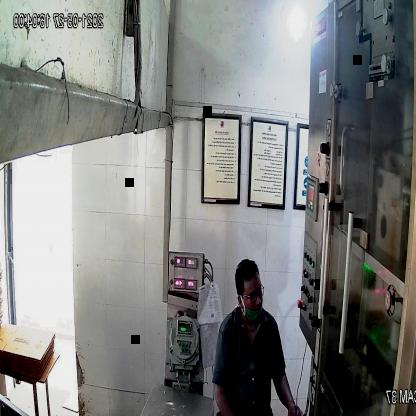goggles: (239, 283, 266, 304)
